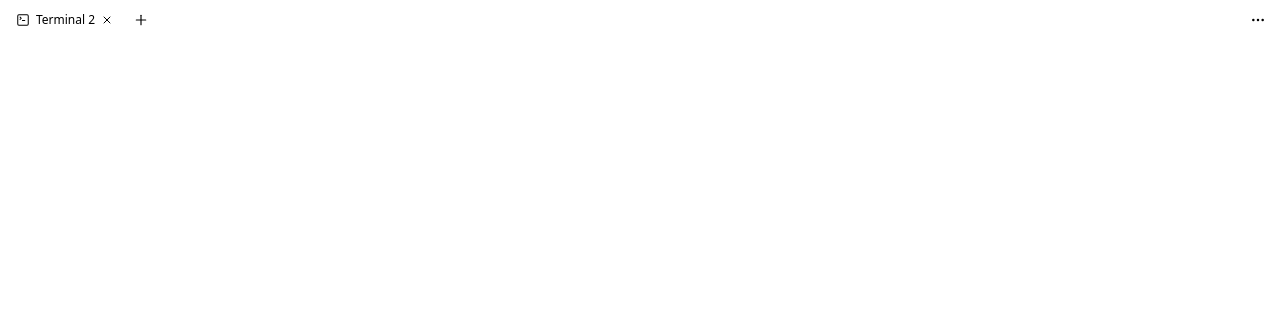
terminal tab chrome › offers terminal actions from the visible menu and disables restart while starting
This screenshot has width=1276, height=310.
Click the button named "Tab actions" at (1258, 20), box [1244,6,1272,34]
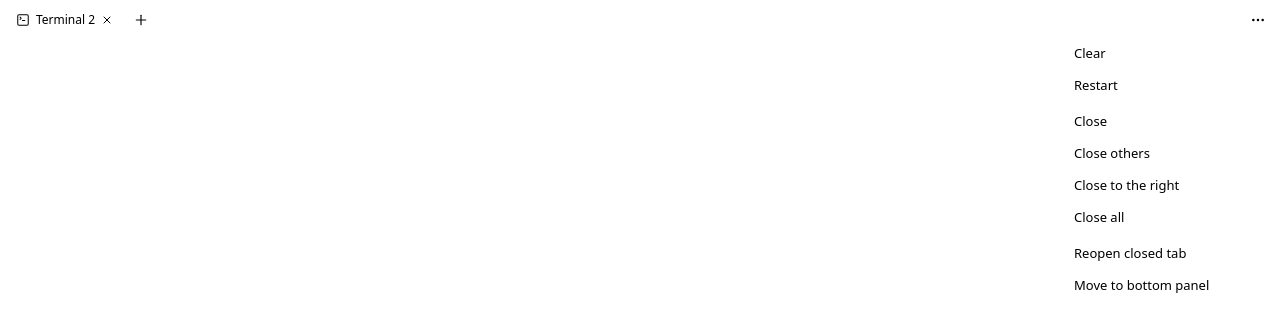
Click the menu item "Clear" at (1157, 54), box [1066,38,1248,70]
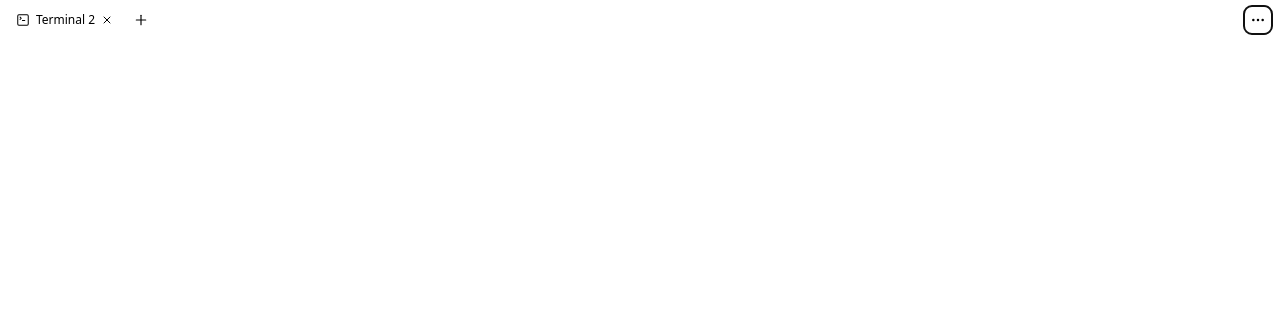
Press F10 in the tab "Terminal 2", box [16,6,95,34]
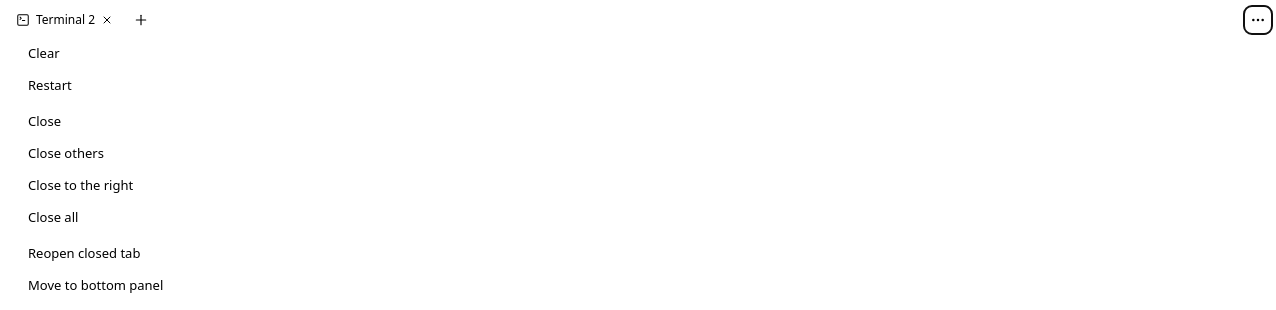
Click the menu item "Restart" at (111, 86), box [20,70,202,102]
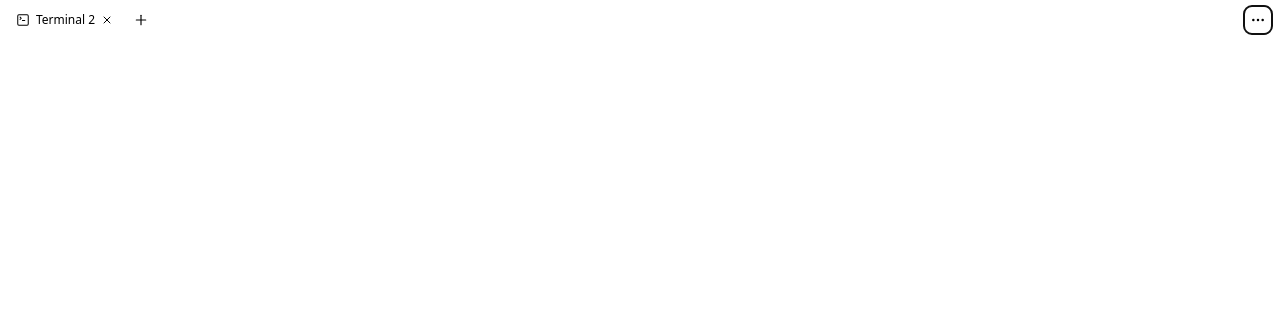
Click the button named "Tab actions" at (1258, 20), box [1244,6,1272,34]
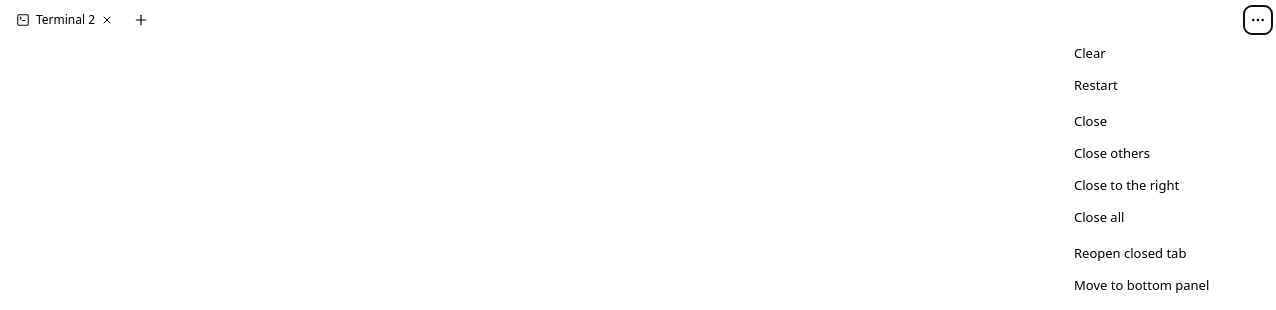
Expected: the menu item "Restart" is disabled, [1066,70,1248,102]
